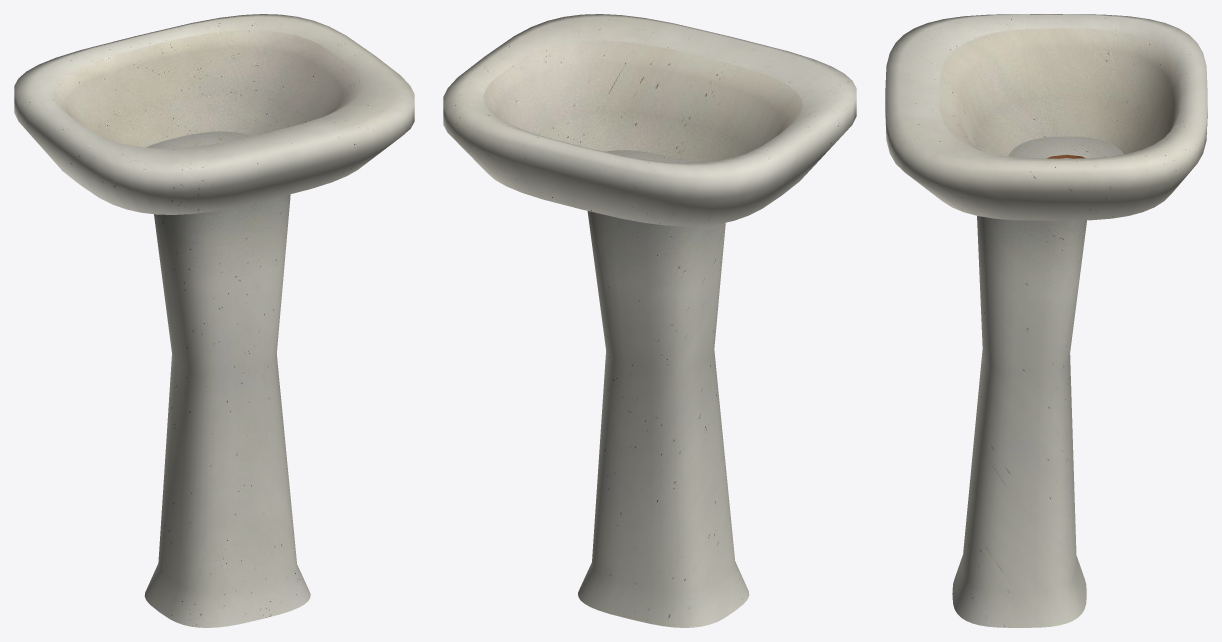
Rendered from sink_pedestal_web.glb.
3 views of the same model, side by side, from view 1: azimuth 30°, elevation 25°; view 2: azimuth 150°, elevation 25°; view 3: azimuth 270°, elevation 25° (orthographic). The views are drawn at different scales.
Parts seen in each view (by area): view 1: SinkPedestal_Body; view 2: SinkPedestal_Body; view 3: SinkPedestal_Body.
Part boxes in pixels (x1=…): SinkPedestal_Body: x1=14, y1=14, x2=414, y2=627; SinkPedestal_Body: x1=443, y1=14, x2=856, y2=627; SinkPedestal_Body: x1=885, y1=14, x2=1207, y2=627.
Bounding box in the file's own units: 0.56 × 0.83 × 0.48.
Materials: 2 (2 with a texture image).
